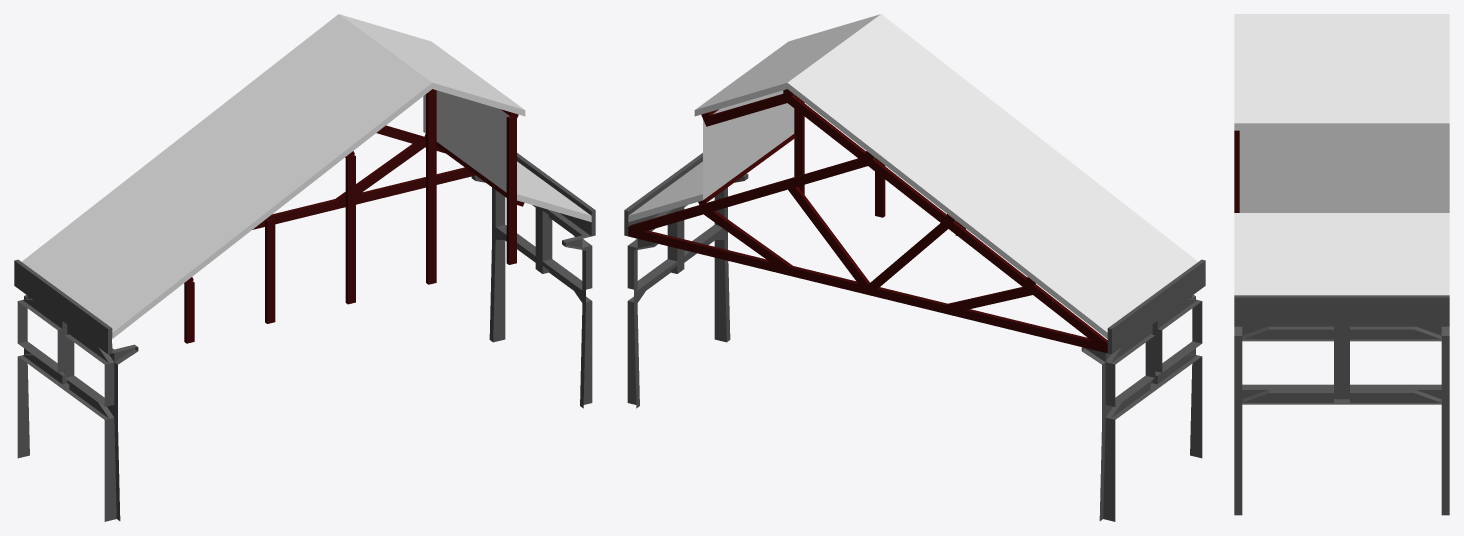
Rendered from SM_Factory_E.fbx.
The picture shows the model from 3 angles, left to right: view 1: azimuth 30°, elevation 25°; view 2: azimuth 150°, elevation 25°; view 3: azimuth 270°, elevation 25°; orthographic projection. The views are drawn at different scales.
Parts seen in each view (by area): view 1: Factory_Frame_E, Factory_PillarsAndBeams_E; view 2: Factory_Frame_E, Factory_PillarsAndBeams_E; view 3: Factory_Frame_E, Factory_PillarsAndBeams_E.
Part boxes in pixels (bbox=[...]): Factory_Frame_E: bbox=[14, 14, 595, 354]; Factory_PillarsAndBeams_E: bbox=[17, 175, 592, 521]; Factory_Frame_E: bbox=[624, 14, 1205, 354]; Factory_PillarsAndBeams_E: bbox=[627, 173, 1202, 521]; Factory_Frame_E: bbox=[1234, 14, 1449, 326]; Factory_PillarsAndBeams_E: bbox=[1234, 326, 1449, 515].
Size of the model in its own units: 12 by 4 by 8.53.
